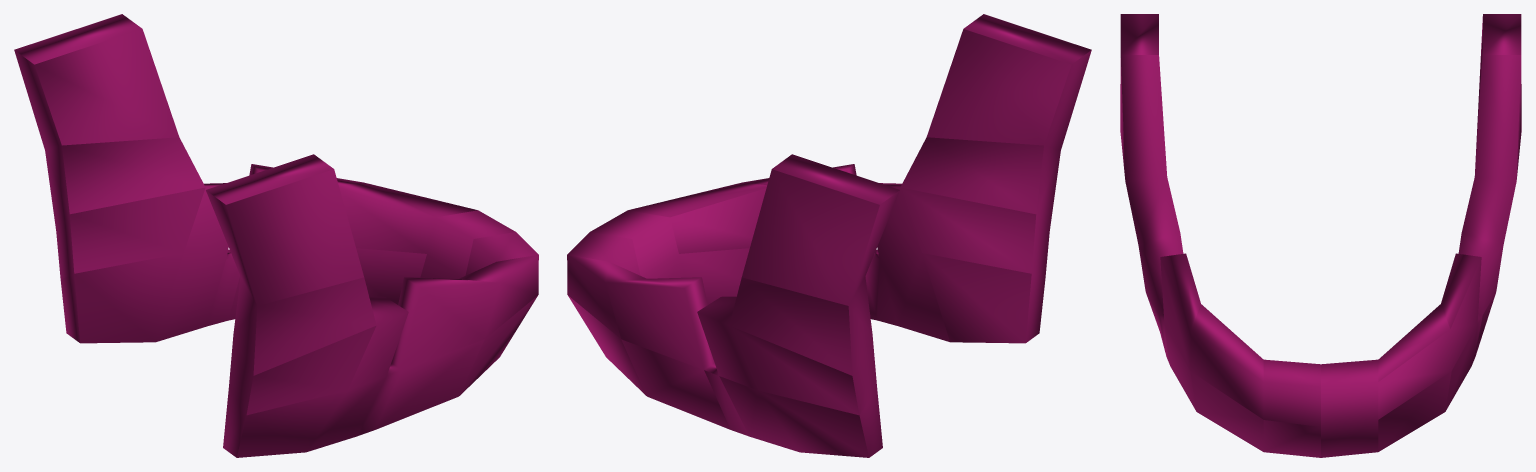
File: Skull_02.fbx
3 renders of one model, left to right at view 1: azimuth 30°, elevation 25°; view 2: azimuth 150°, elevation 25°; view 3: azimuth 270°, elevation 25°, orthographic. The views are drawn at different scales.
Parts seen in each view (by area): view 1: Skull_02; view 2: Skull_02; view 3: Skull_02.
Boxes of the visible parts, bbox=[...] form: Skull_02: bbox=[14, 14, 538, 457]; Skull_02: bbox=[567, 14, 1091, 457]; Skull_02: bbox=[1120, 14, 1521, 457].
Bounding box in the file's own units: 14.99 × 11.03 × 13.92.
